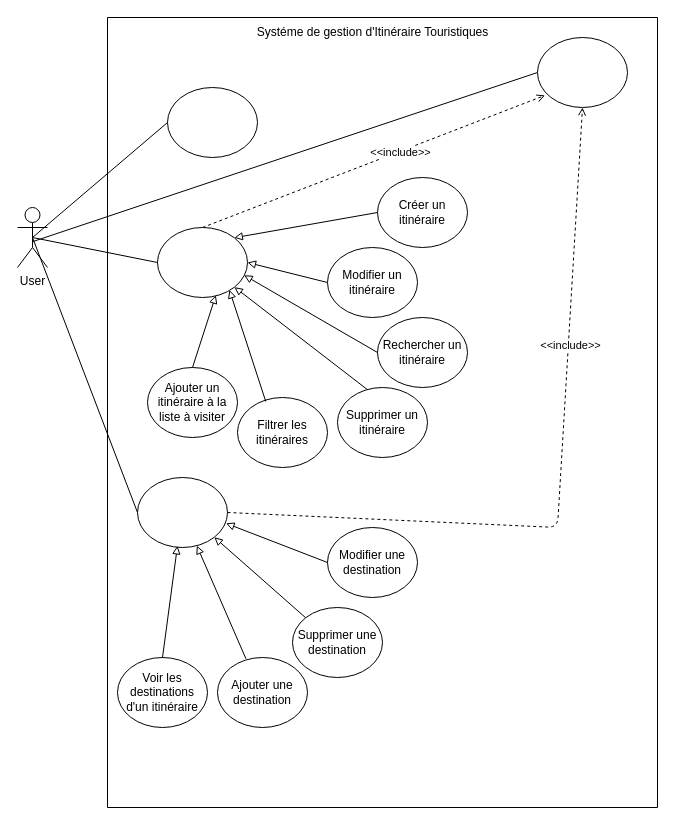
Some shapes in this 675 by 825 pixel diagram are drawn without their labels. Here are the shapes that lost their labels. From the top down, the centre of each, then its label:
point (582, 72): S'authentifier
point (212, 122): S'inscrire
point (202, 262): Gestion d'itinéraire
point (182, 512): Gestion des destinations
